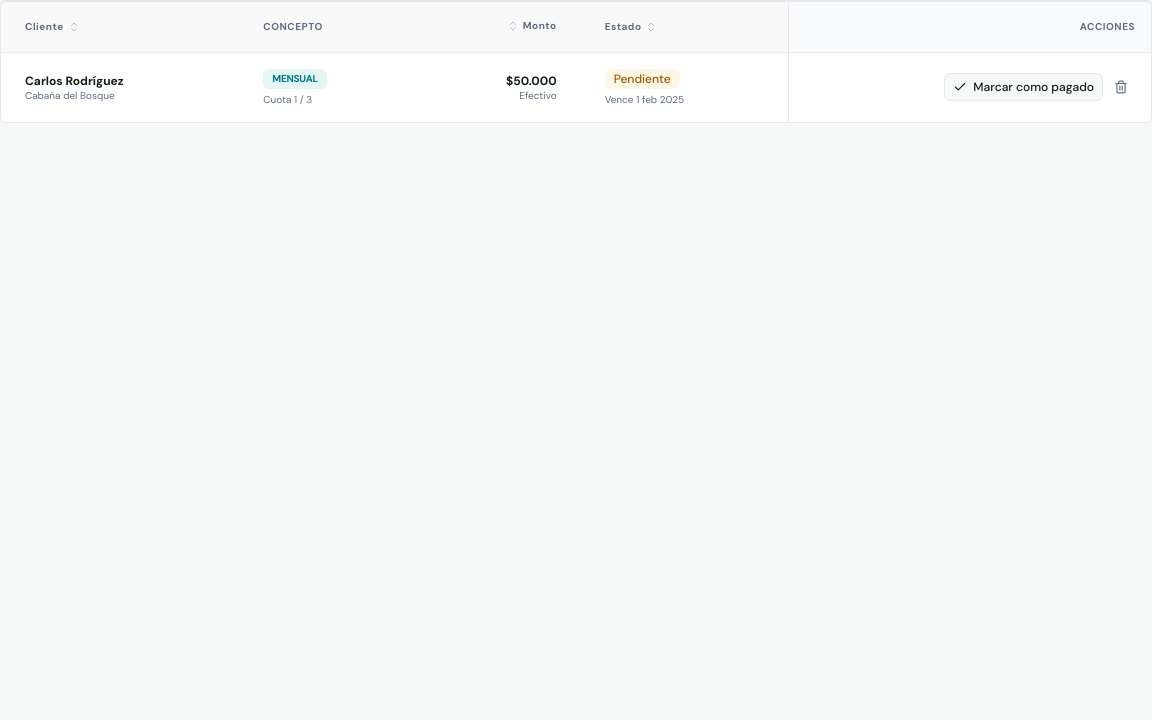
it: PaymentsTableClient - handleDeletePayment › pide confirmación antes de borrar, con el diálogo del sistema
Click the button named "eliminar pago ·" at point(1121, 87), box [1107,73,1135,101]
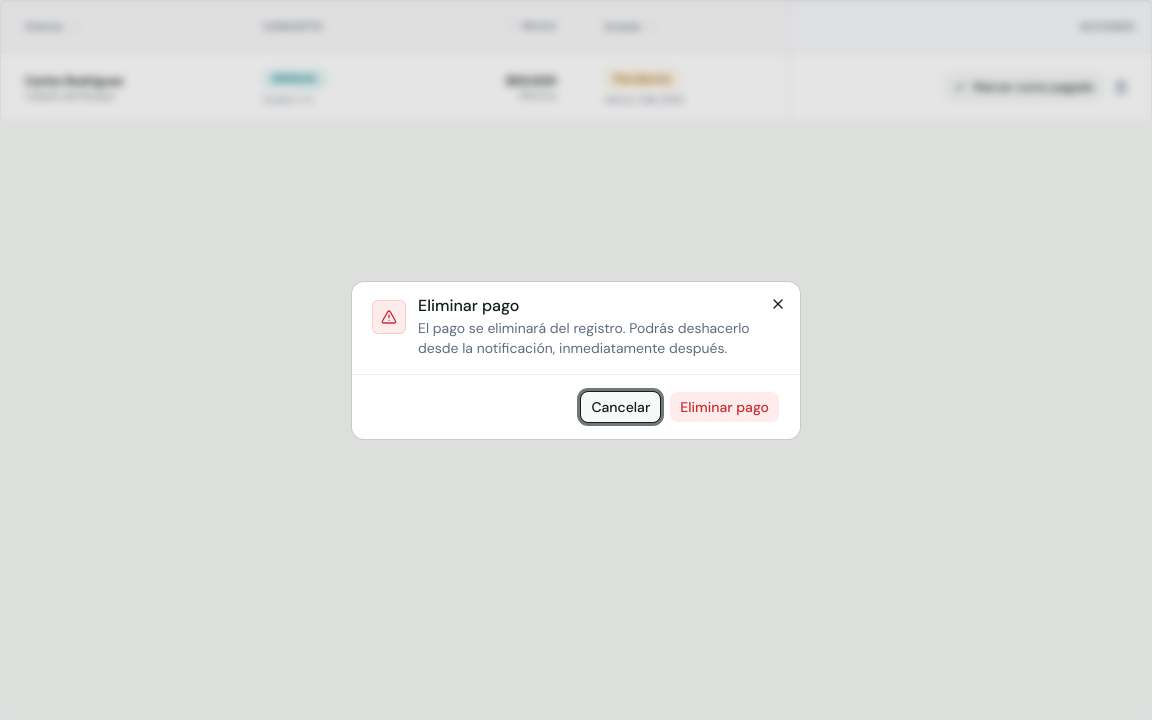
Expected: the text "se eliminará del registro" is shown, [418,318,750,356]
